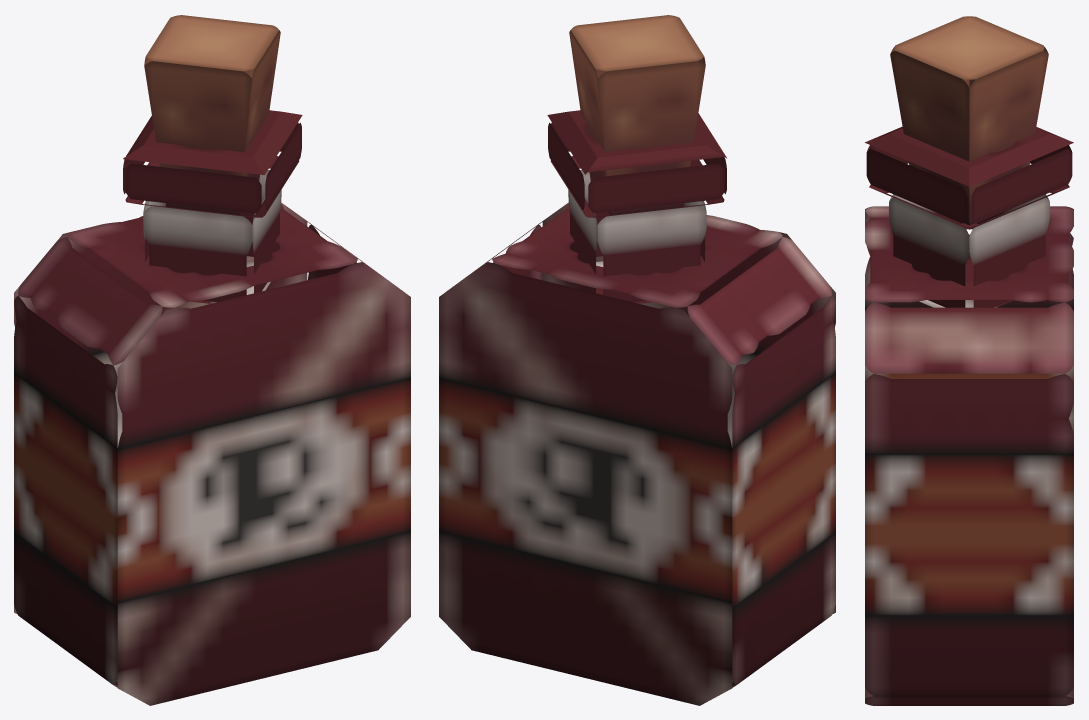
File: RON.fbx
3 renders of one model, left to right at view 1: azimuth 30°, elevation 25°; view 2: azimuth 150°, elevation 25°; view 3: azimuth 270°, elevation 25°, orthographic.
Parts seen in each view (by area): view 1: cuboid_1, cuboid_2, cuboid; view 2: cuboid_1, cuboid_2, cuboid; view 3: cuboid_1, cuboid_2, cuboid.
Boxes of the visible parts, left/top/right/bottom form: cuboid_1: left=14, top=202, right=410, bottom=705; cuboid_2: left=123, top=110, right=302, bottom=303; cuboid: left=144, top=15, right=280, bottom=215; cuboid_1: left=439, top=202, right=835, bottom=705; cuboid_2: left=547, top=110, right=726, bottom=303; cuboid: left=569, top=15, right=705, bottom=215; cuboid_1: left=865, top=206, right=1073, bottom=705; cuboid_2: left=865, top=126, right=1073, bottom=307; cuboid: left=890, top=16, right=1048, bottom=225.
Size of the model in its own units: 56.25 by 109 by 34.6.
Materials: 1 (1 with a texture image).
